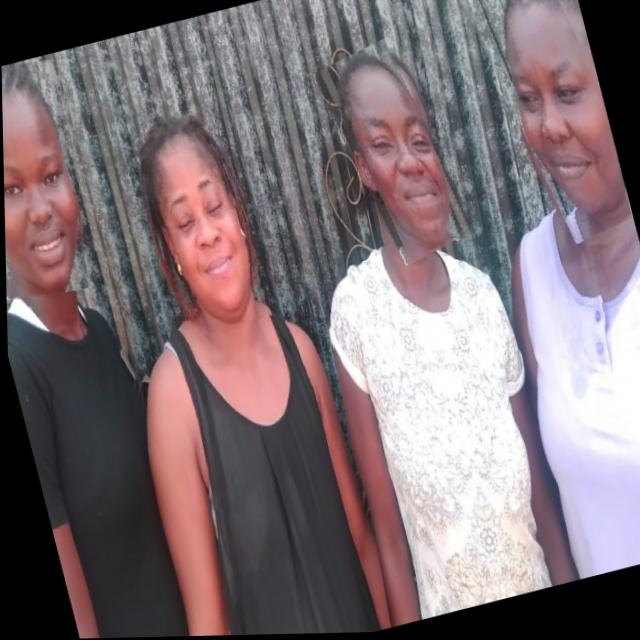happy: (467, 0, 635, 254), (318, 34, 470, 274), (136, 122, 269, 340), (1, 53, 103, 308)
